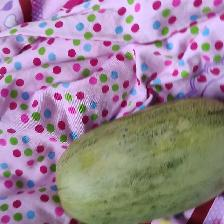gua: (78, 115, 214, 215)
